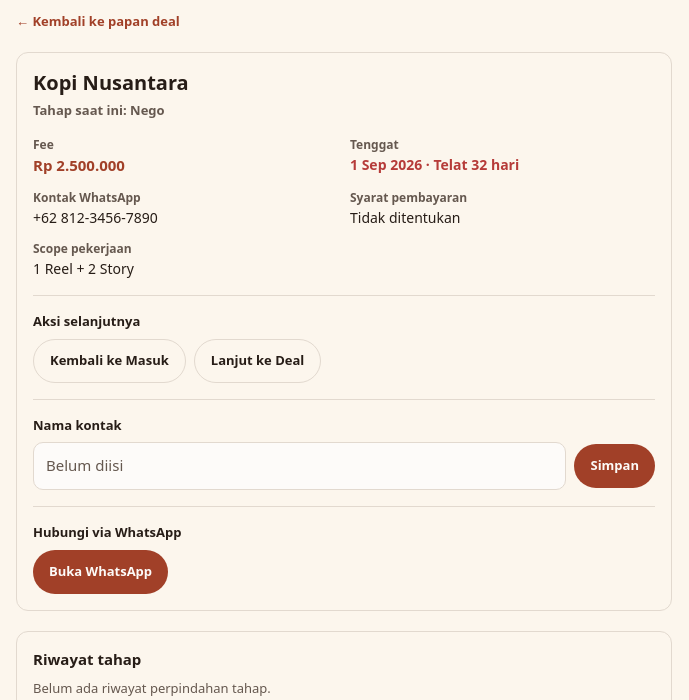
DealDetailClient — next action (deal↔invoice continuity) › shows stage-transition buttons that PATCH the deal and update the shown stage
This screenshot has width=689, height=700.
Check: the button "Kembali ke Masuk" is shown, box left=33, top=339, right=186, bottom=383
Click the button "Lanjut ke Deal" at (258, 361), box left=194, top=339, right=321, bottom=383
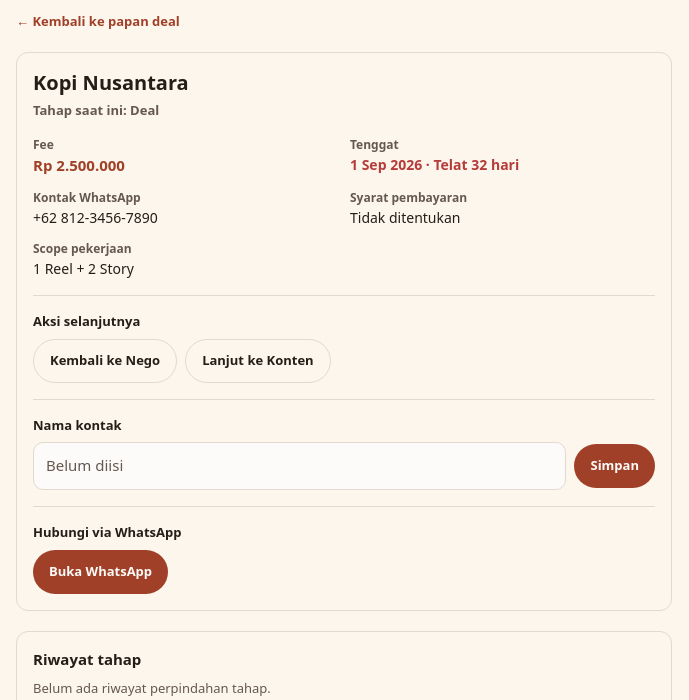
Check: the text "Tahap saat ini: Deal" is shown, box left=33, top=100, right=159, bottom=118
